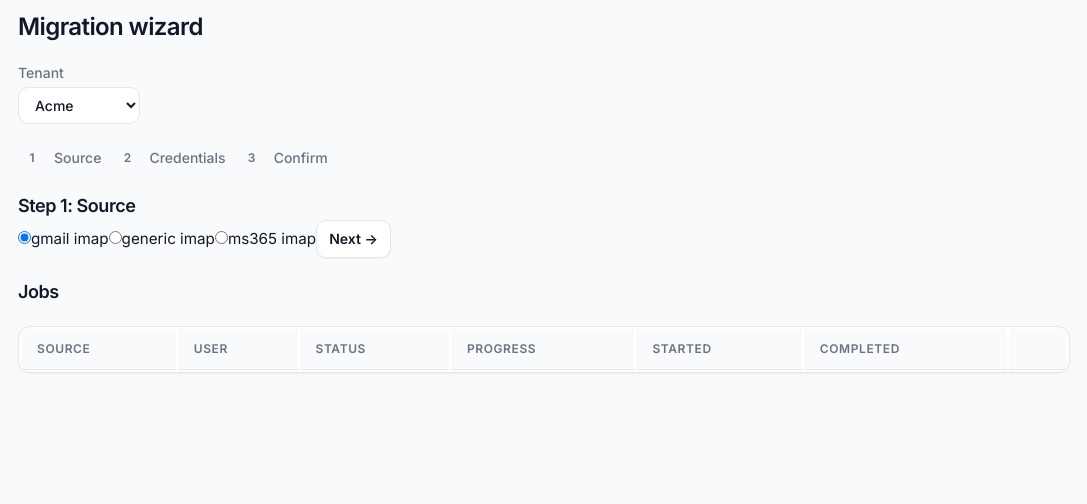
Test case: <MigrationAdmin /> › disables Test connection until host/user/password are supplied
This screenshot has width=1087, height=504.
Select "Acme" in the dropdown labelled "Tenant" at (79, 106), box [18, 87, 140, 124]
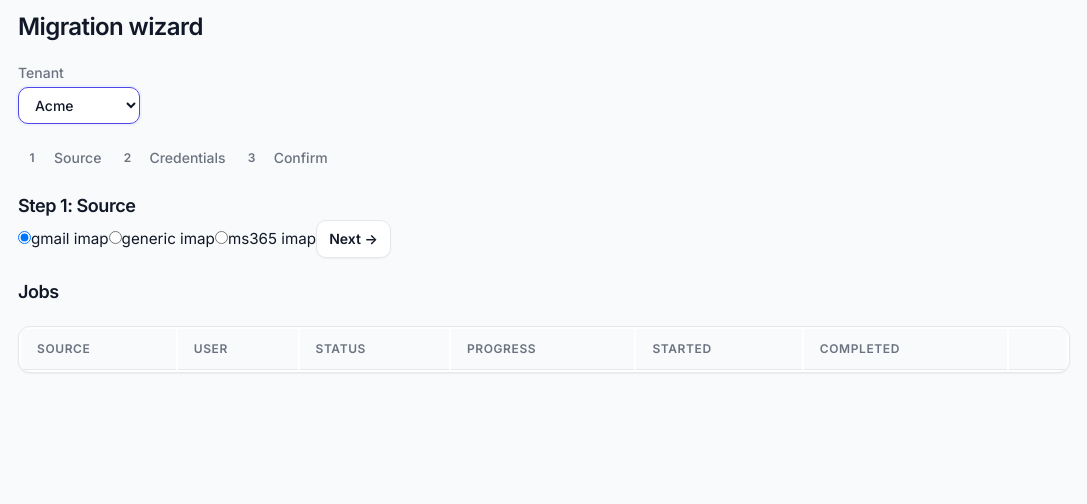
Click the radio button labelled "generic imap" at (115, 238), box [109, 231, 122, 244]
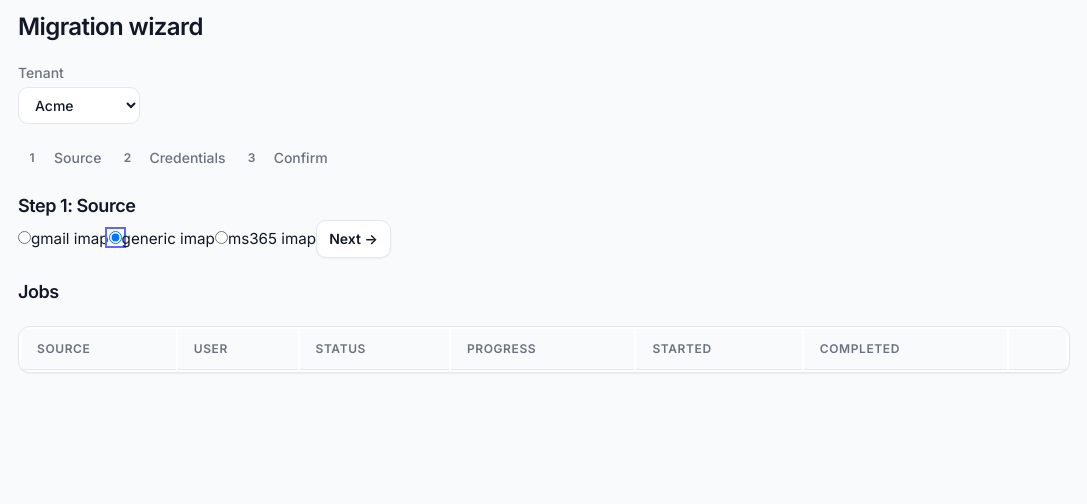
Click the button "Next →" at (353, 239), box [316, 220, 391, 258]
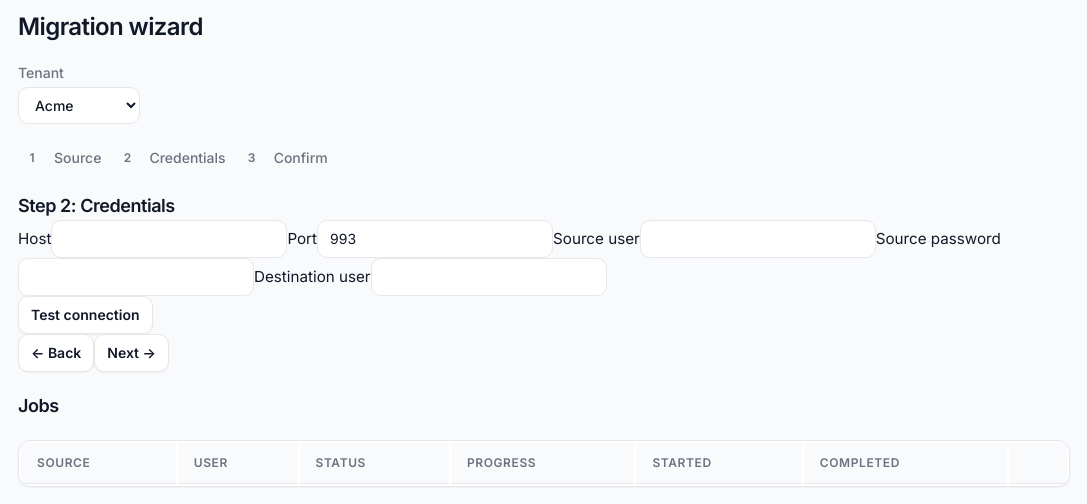
Check: the button "Test connection" is disabled, box [18, 296, 152, 334]
